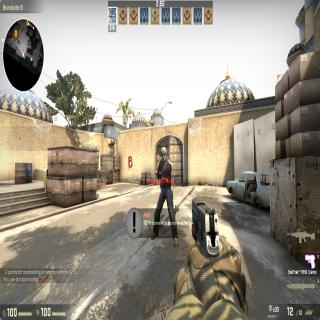T-Body: (152, 144, 181, 244)
T-Head: (160, 145, 168, 163)
